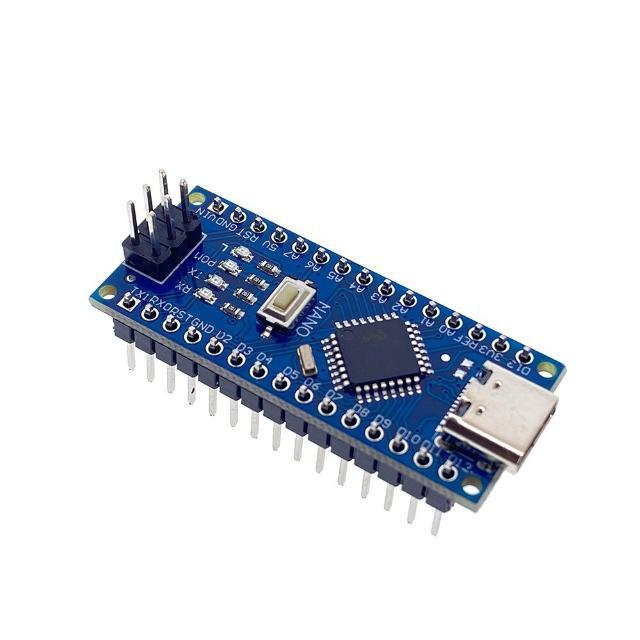Arduino-Nano: (90, 171, 565, 533)
